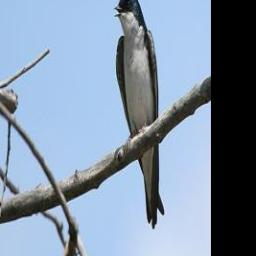Swallow: (113, 0, 165, 229)
